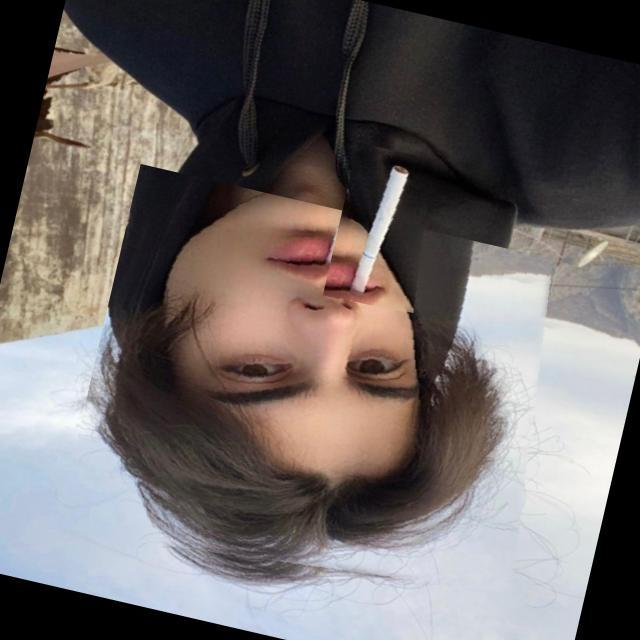cigarette: (322, 143, 448, 317)
